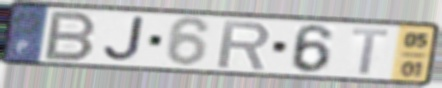6: (162, 15, 215, 70), (290, 23, 338, 76)
B: (40, 9, 99, 63)
J: (101, 16, 146, 64)
R: (215, 19, 274, 72)
T: (350, 26, 392, 77)
